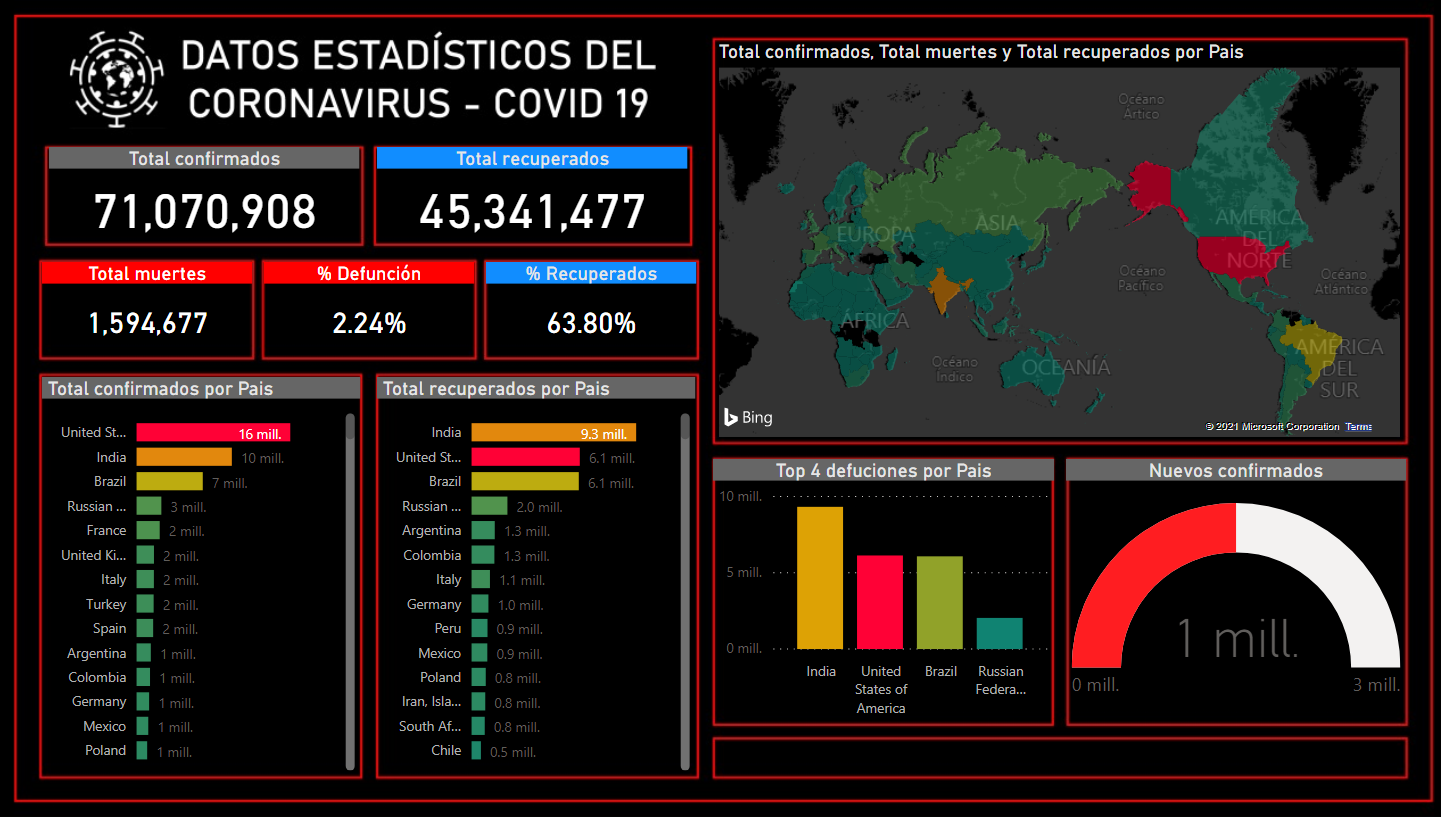

The dashboard page shown, as its layout file describes it:
{"tool":"powerbi","page":{"name":"Covid19","canvas":[1280,720],"ordinal":0},"visuals":[{"type":"clusteredBarChart","fields":{"Category":["summary.Pais"],"Y":["Sum(summary.Total confirmados)"]},"box":[40,332.3,280.2,351.3],"z":0},{"type":"clusteredBarChart","fields":{"Category":["summary.Pais"],"Y":["Sum(summary.Total recuperados)"]},"box":[335.3,332.3,280.2,351.3],"z":1000},{"type":"card","title":"Total confirmados","fields":{"Values":["Sum(summary.Total confirmados)"]},"box":[46.6,130.1,273.4,85.3],"z":2000},{"type":"card","title":"Total recuperados","fields":{"Values":["Sum(summary.Total recuperados)"]},"box":[334.9,130.1,273.4,85.3],"z":3000},{"type":"card","title":"Total muertes","fields":{"Values":["Sum(summary.Total muertes)"]},"box":[40,231.2,185.1,85.1],"z":4000},{"type":"clusteredColumnChart","title":"Top 4 defuciones por Pais","fields":{"Category":["summary.Pais"],"Y":["Sum(summary.Total recuperados)"]},"box":[630.5,404.3,300.2,234.2],"z":5000},{"type":"gauge","fields":{"Y":["Sum(summary.Nuevos confirmados)"]},"box":[940.7,404.3,299.2,234.2],"z":6000},{"type":"card","title":"% Defunción","fields":{"Values":["summary.% Defunción"]},"box":[235.2,231.2,185.1,85.1],"z":7000},{"type":"card","title":"% Recuperados","fields":{"Values":["summary.% Recuperados"]},"box":[430.3,231.2,185.1,85.1],"z":8000},{"type":"filledMap","fields":{"Category":["summary.Pais"]},"box":[630.5,36,609.5,354.3],"z":9000}]}

Visuals, with their boxes in screenshot pixels (x1, y1, x2, y2), scaled from the page's 1280x720 canvas onto the 1441x817 screenshot:
clusteredBarChart - summary.Pais x Sum(summary.Total confirmados): 45:377:360:776
clusteredBarChart - summary.Pais x Sum(summary.Total recuperados): 377:377:693:776
"Total confirmados" card: 52:148:360:244
"Total recuperados" card: 377:148:685:244
"Total muertes" card: 45:262:253:359
"Top 4 defuciones por Pais" clusteredColumnChart: 710:459:1048:725
gauge - Sum(summary.Nuevos confirmados): 1059:459:1396:725
"% Defunción" card: 265:262:473:359
"% Recuperados" card: 484:262:693:359
filledMap - summary.Pais: 710:41:1396:443
